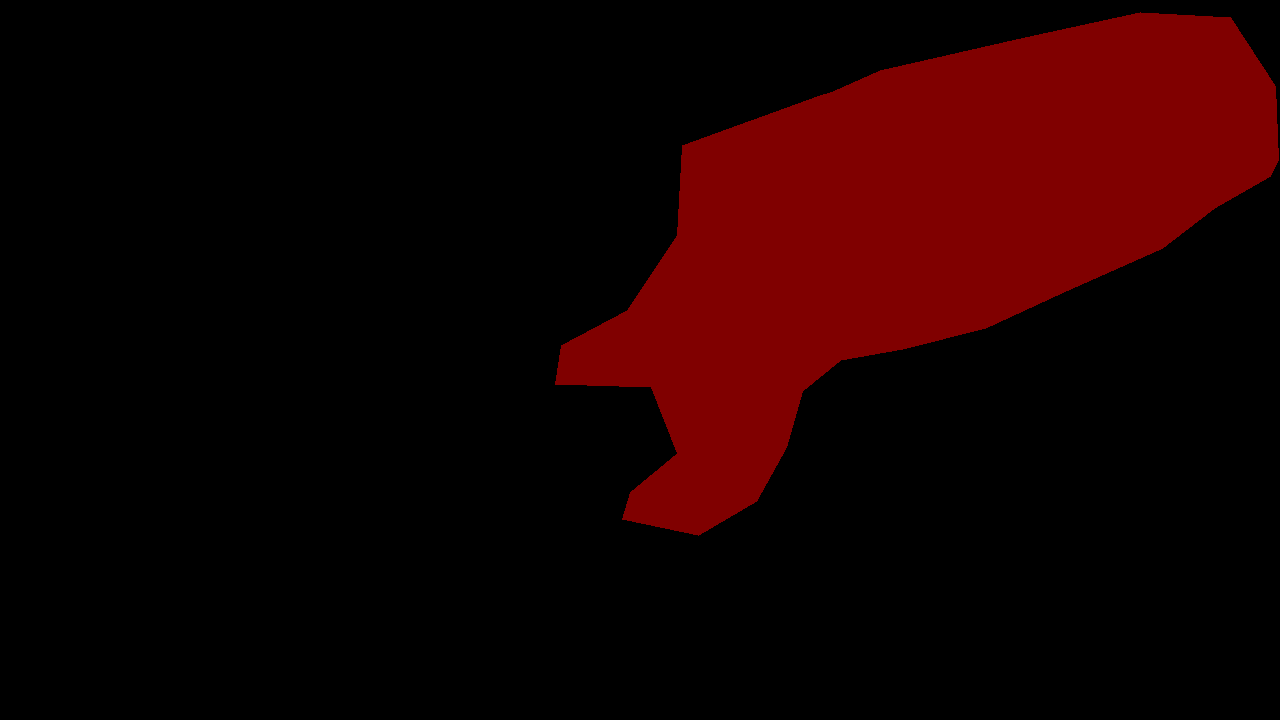fire: (555, 12, 1278, 535)
